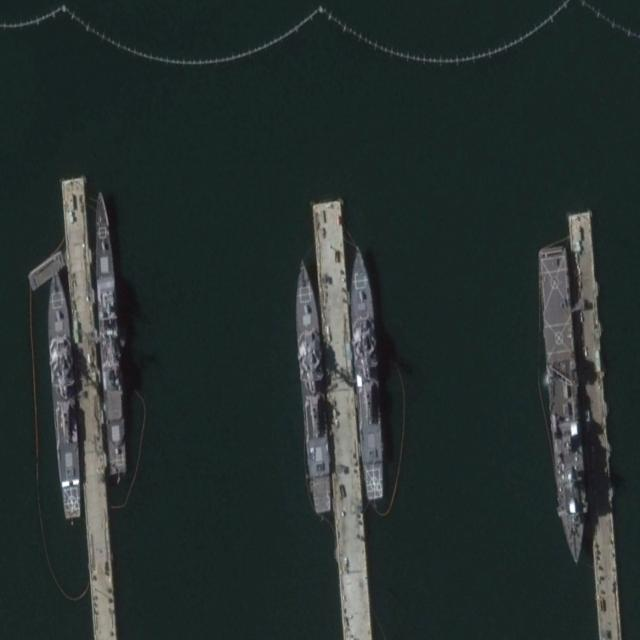Cruiser: (90, 188, 129, 476)
Destroyer: (290, 256, 335, 516), (43, 263, 84, 521), (346, 242, 386, 500)
Landing: (535, 243, 593, 567)
